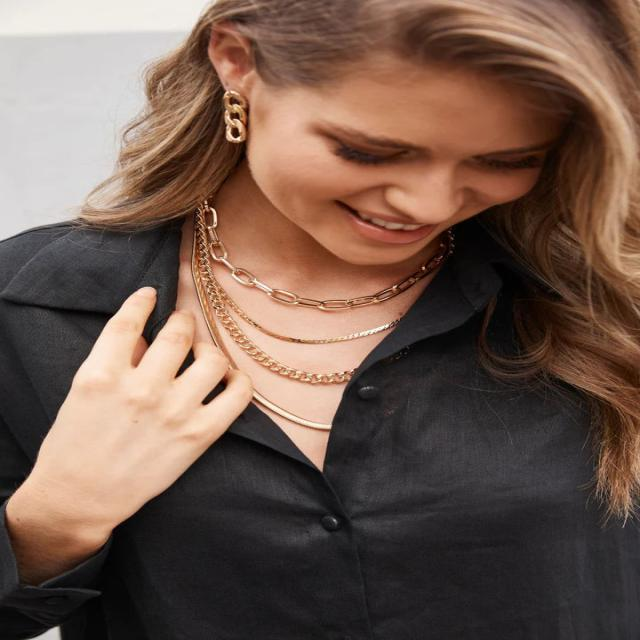Earring: (218, 74, 260, 164)
